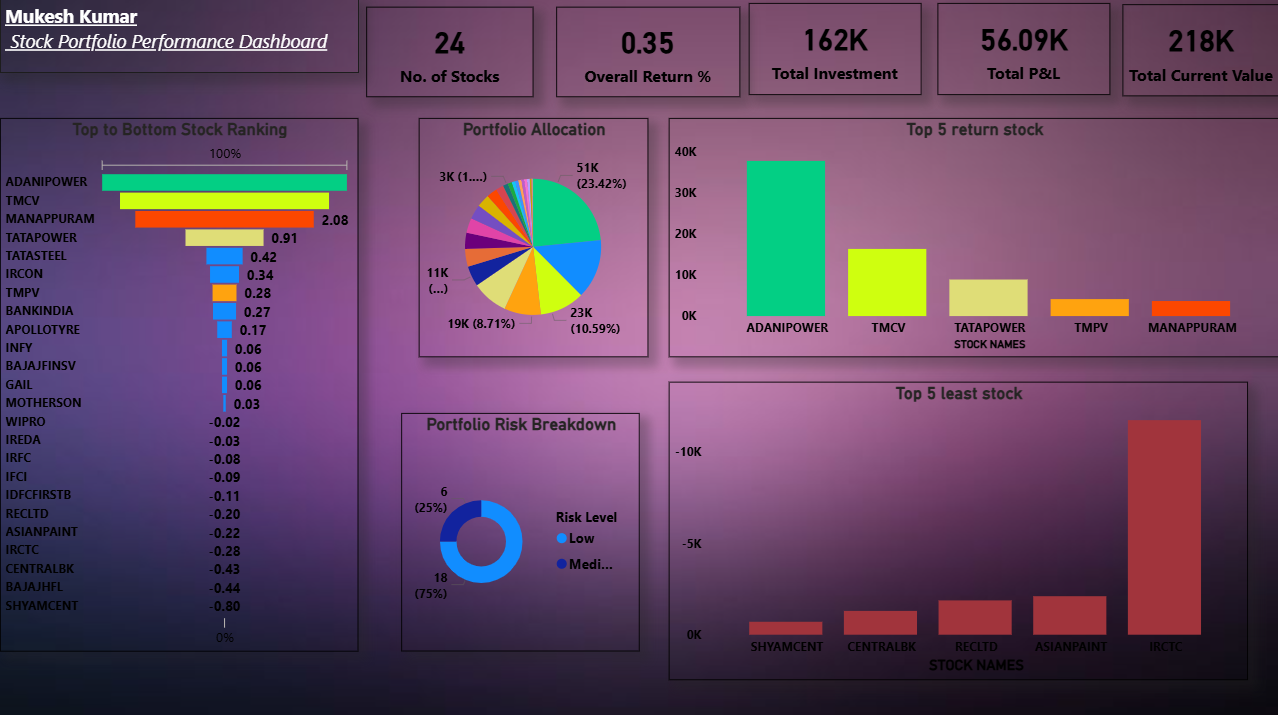

Layout of this report page (visuals, bound fields, positions):
{"tool":"powerbi","page":{"name":"Page 1","canvas":[1280,720],"ordinal":0},"visuals":[{"type":"card","fields":{"Values":["holdings.Total Investment"]},"box":[749.2,5.5,172.9,91.9],"z":0},{"type":"card","fields":{"Values":["holdings.Total Current Value"]},"box":[1122.5,6.9,157.8,91.9],"z":1000},{"type":"card","fields":{"Values":["holdings.Total P&L"]},"box":[937.2,5.5,172.9,91.9],"z":2000},{"type":"columnChart","title":"Top 5 return stock","fields":{"Y":["Sum(holdings.P&L)"],"Category":["holdings.STOCK NAMES"]},"box":[668.7,120.2,611,239.3],"z":3000},{"type":"pieChart","title":"Portfolio Allocation","fields":{"Y":["Sum(holdings.Cur. val)"],"Category":["holdings.STOCK NAMES"]},"box":[418.4,120.2,229.4,239.3],"z":4000},{"type":"textbox","box":[0,0,358.1,75.5],"z":5000},{"type":"donutChart","title":"Portfolio Risk Breakdown","fields":{"Category":["holdings.Risk Level"],"Y":["CountNonNull(holdings.Risk Level)"]},"box":[400.7,414.4,238.8,238.8],"z":6000},{"type":"columnChart","title":"Top 5 least stock","fields":{"Category":["holdings.STOCK NAMES"],"Y":["Sum(holdings.P&L)"]},"box":[668.7,384.1,579.1,298.2],"z":7000},{"type":"card","fields":{"Values":["holdings.Overall Return %"]},"box":[555.7,8.2,183.9,90.6],"z":8000},{"type":"card","fields":{"Values":["holdings.No. of Stocks"]},"box":[366.4,8.2,167.4,90.6],"z":9000},{"type":"funnel","title":"Top to Bottom Stock Ranking","fields":{"Category":["holdings.STOCK NAMES"],"Y":["Sum(holdings.Return %)"]},"box":[0,120.2,358.3,533.7],"z":10000}]}

Visuals, with their boxes in screenshot pixels (x1, y1, x2, y2), scaled from the page's 1280x720 canvas onto the 1278x715 screenshot:
card - holdings.Total Investment: locate(748, 5, 921, 97)
card - holdings.Total Current Value: locate(1121, 7, 1277, 98)
card - holdings.Total P&L: locate(936, 5, 1108, 97)
"Top 5 return stock" columnChart: locate(668, 119, 1277, 357)
"Portfolio Allocation" pieChart: locate(418, 119, 647, 357)
textbox: locate(0, 0, 358, 75)
"Portfolio Risk Breakdown" donutChart: locate(400, 412, 639, 649)
"Top 5 least stock" columnChart: locate(668, 381, 1246, 678)
card - holdings.Overall Return %: locate(555, 8, 738, 98)
card - holdings.No. of Stocks: locate(366, 8, 533, 98)
"Top to Bottom Stock Ranking" funnel: locate(0, 119, 358, 649)
